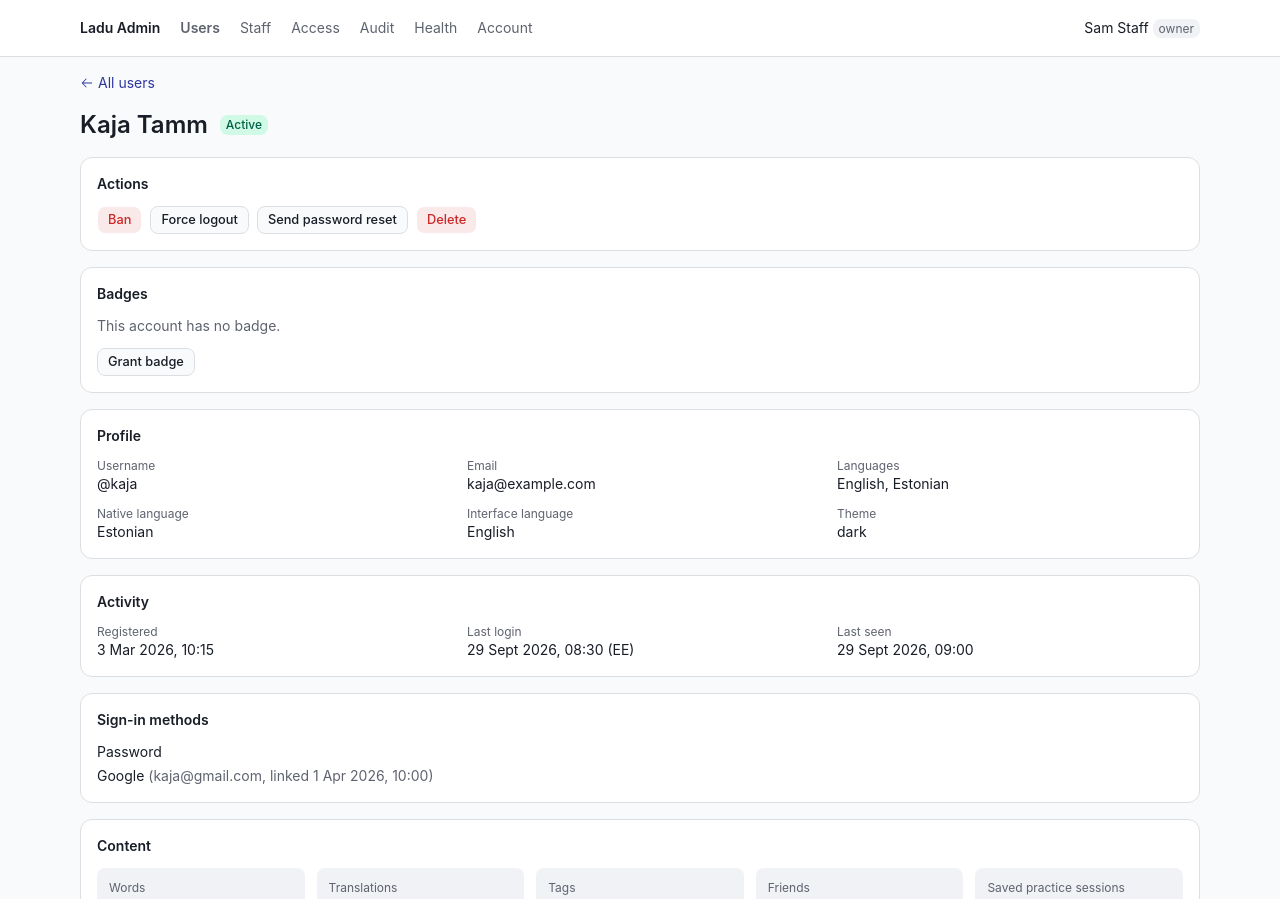
Test: grant › lists the badge type in the dialog
The width and height of the screenshot is (1280, 899).
expect the heading "Kaja Tamm" is shown: met, box 80,109 -> 208,141
Click the button "Grant badge". click: point(146, 362)
box: 97,348 -> 195,376
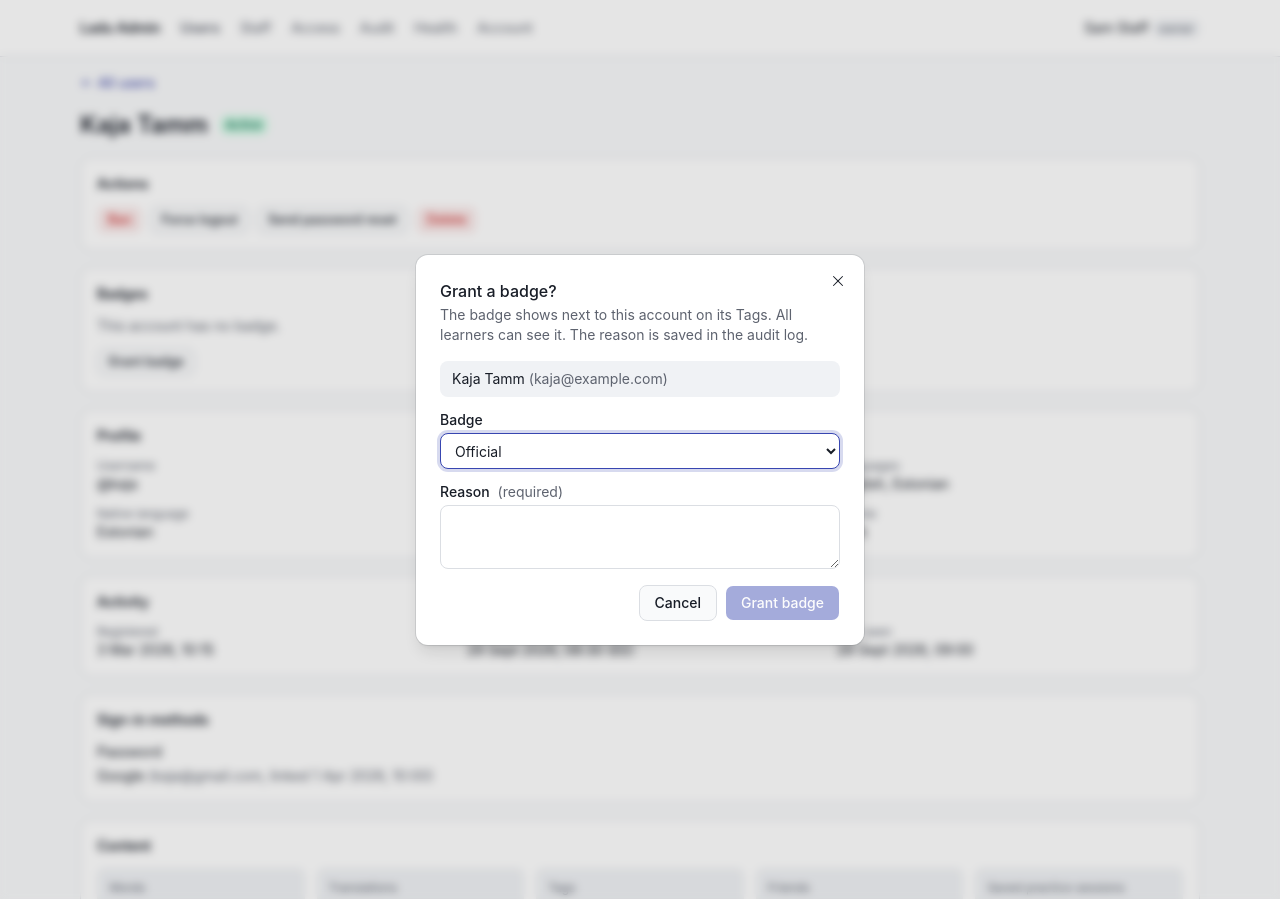
expect the dropdown labelled "Badge" shows "Official": met, box 440,433 -> 840,469
